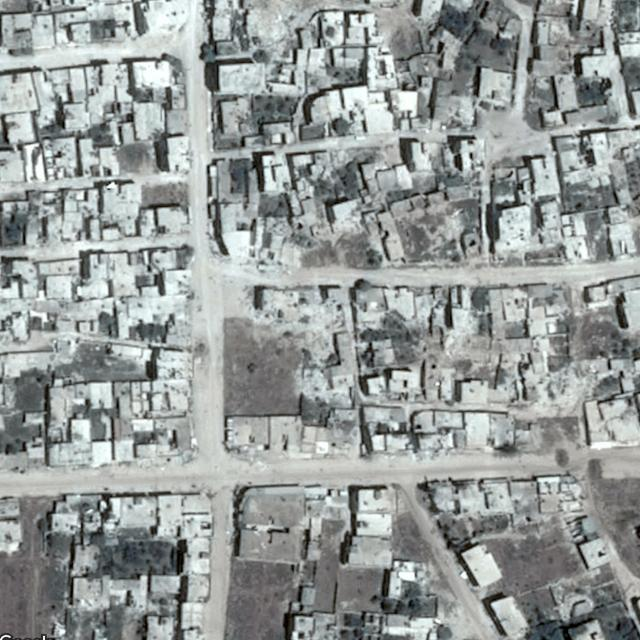damaged_building: (511, 355, 613, 419), (270, 302, 344, 363), (243, 0, 325, 52)
